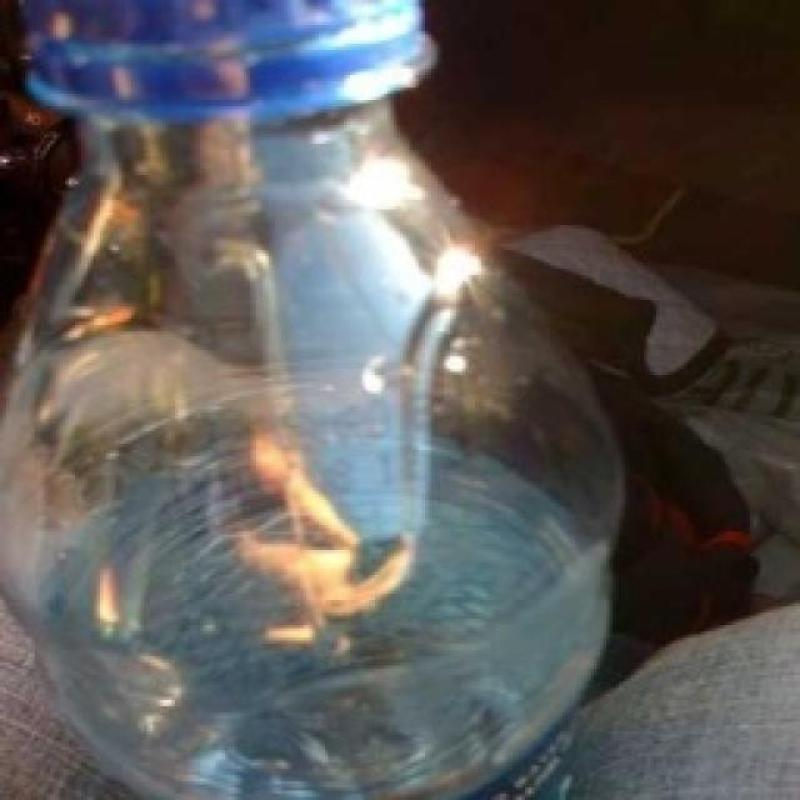botella: (0, 0, 625, 800)
